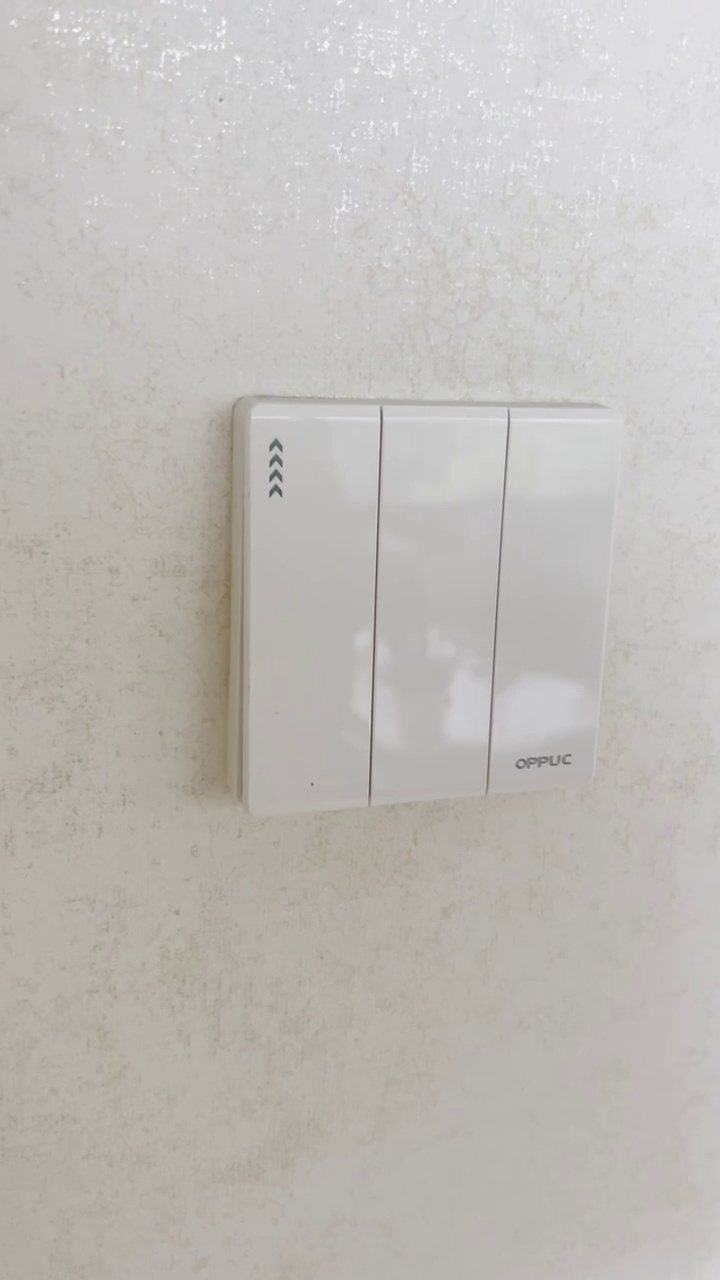button1: (246, 412, 376, 808), (376, 418, 500, 799), (494, 425, 613, 788)
